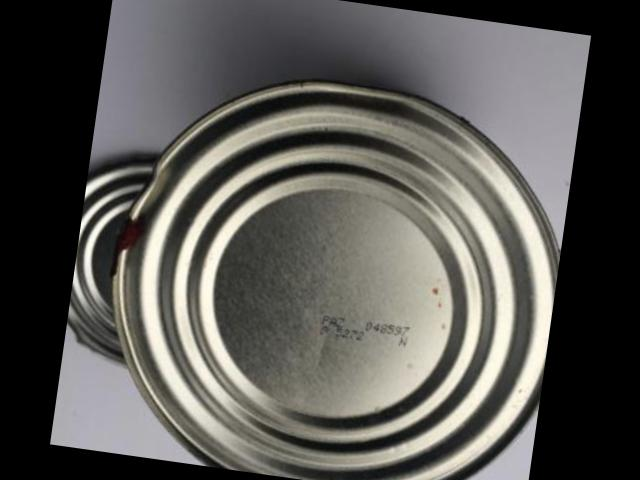metal: (66, 84, 558, 480)
